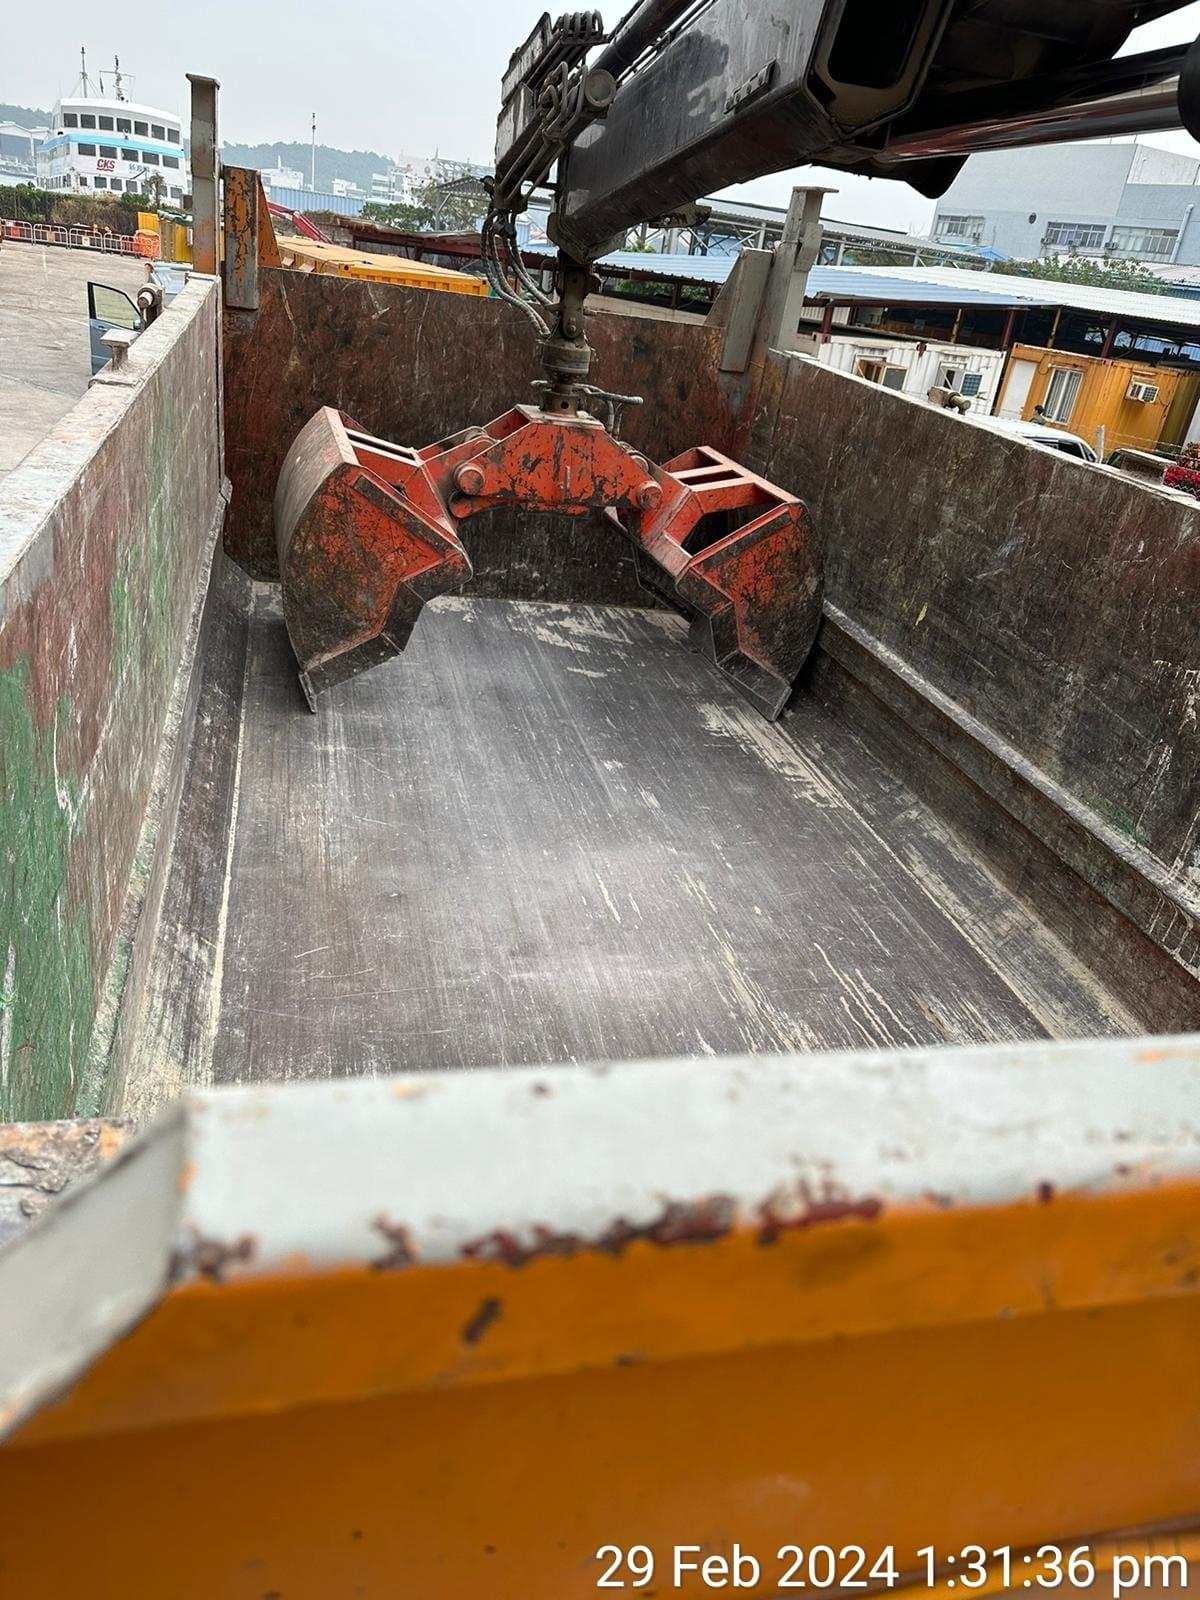nothing: (227, 605, 1045, 1085)
